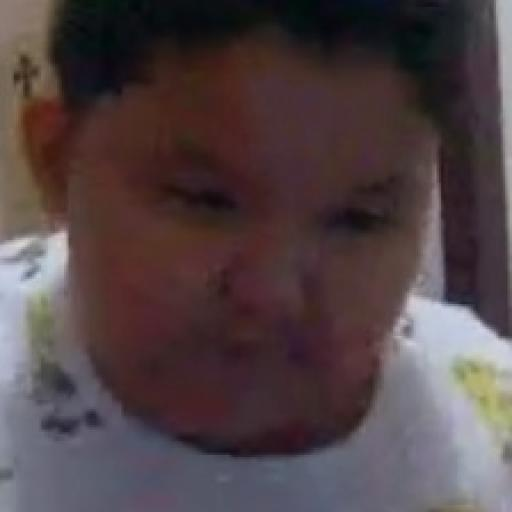Autism: (71, 43, 446, 420)
